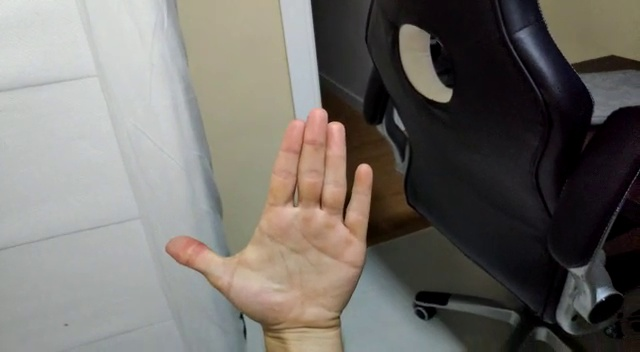Palm: (163, 106, 375, 344)
